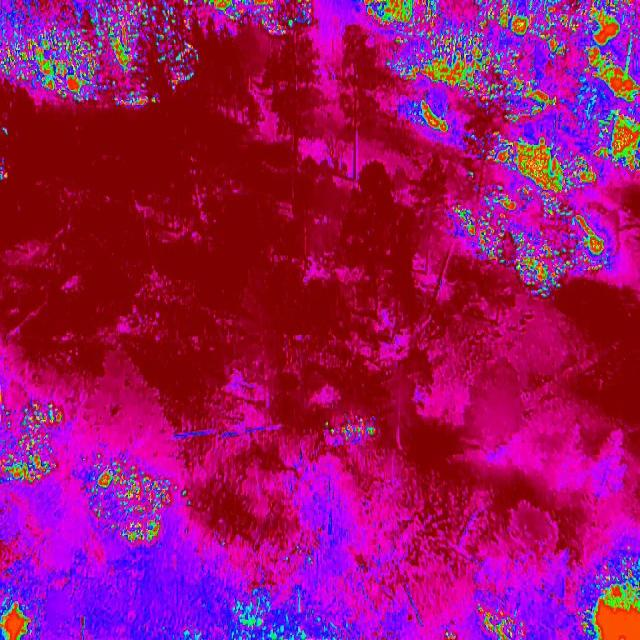fire: (360, 0, 640, 84), (0, 0, 203, 108), (454, 186, 610, 295), (413, 82, 640, 143), (79, 458, 187, 551), (483, 140, 640, 188), (0, 393, 65, 486), (577, 546, 640, 640), (211, 0, 313, 40), (471, 605, 530, 640), (0, 595, 36, 640)
